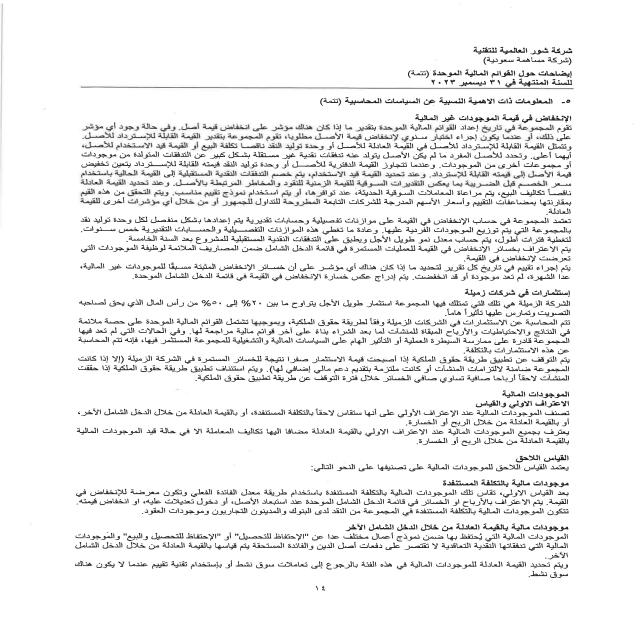notes: (404, 68, 576, 80)
text: (46, 100, 573, 582)
